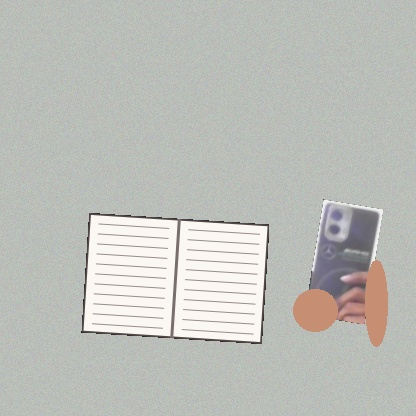book: (81, 213, 269, 344)
cell_phone: (304, 199, 383, 324)
